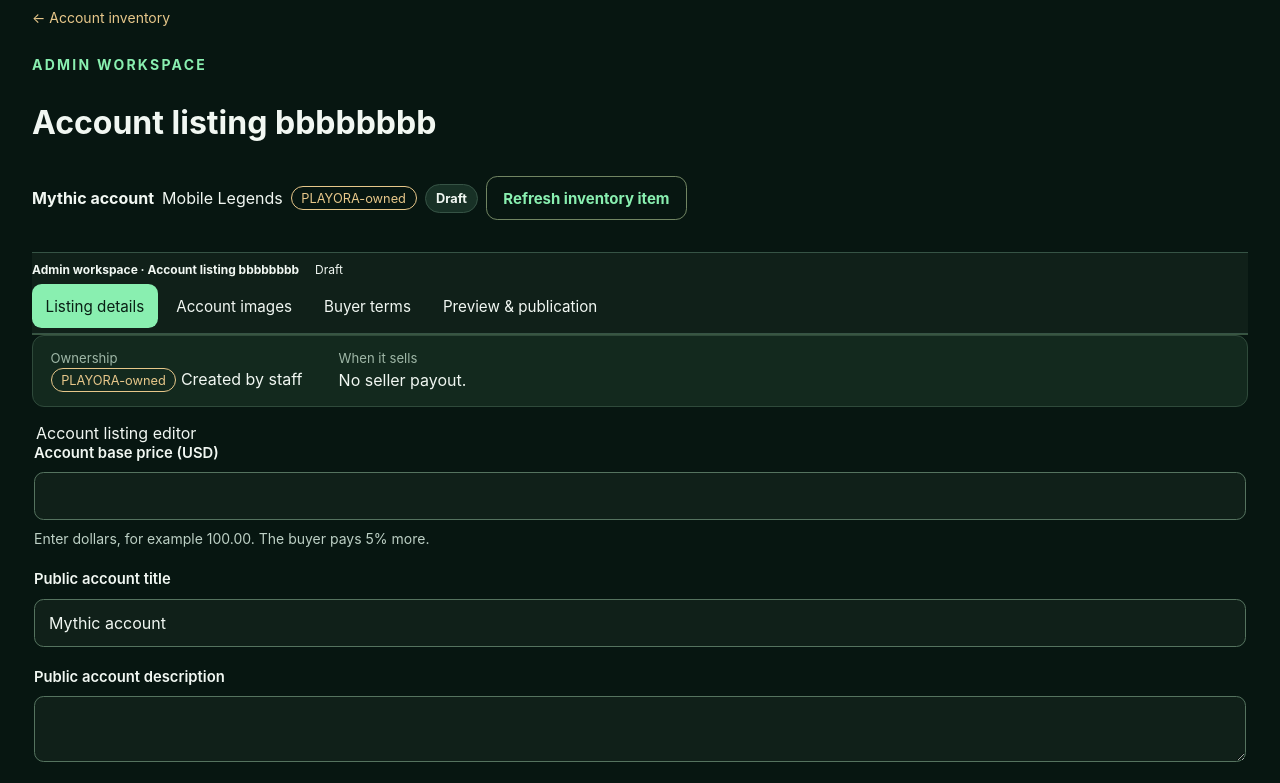
Test: edits a PLAYORA listing without seller agreement, selling progress or chat images
The width and height of the screenshot is (1280, 783).
Expected: the text "Created by staff" is shown, left=181, top=368, right=302, bottom=388
Expected: the text "No seller payout." is shown, left=339, top=370, right=466, bottom=390
Click the link "Account images" at coordinates (234, 306), box left=176, top=297, right=292, bottom=316
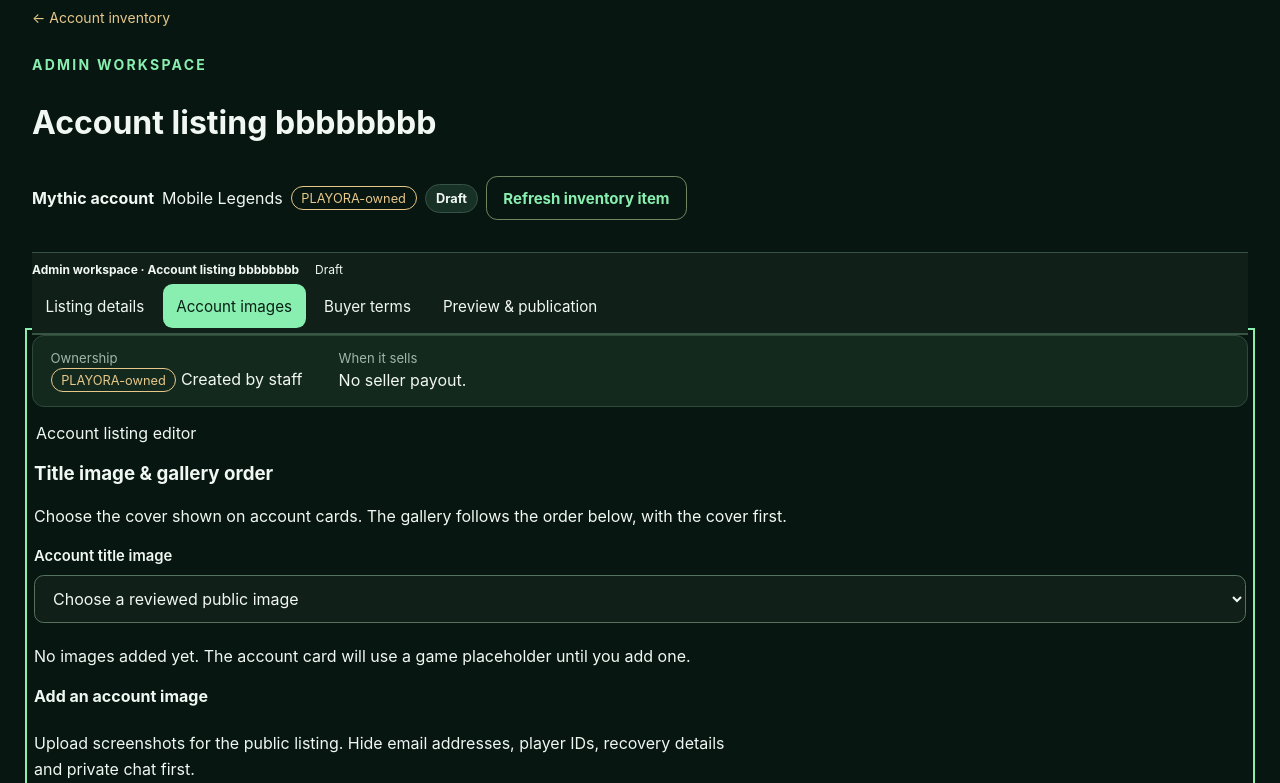
Result: the text "Add an account image" is shown at left=34, top=686, right=208, bottom=706
Click the link "Preview & publication" at coordinates (520, 306), box left=443, top=297, right=597, bottom=316
(page scrolled)
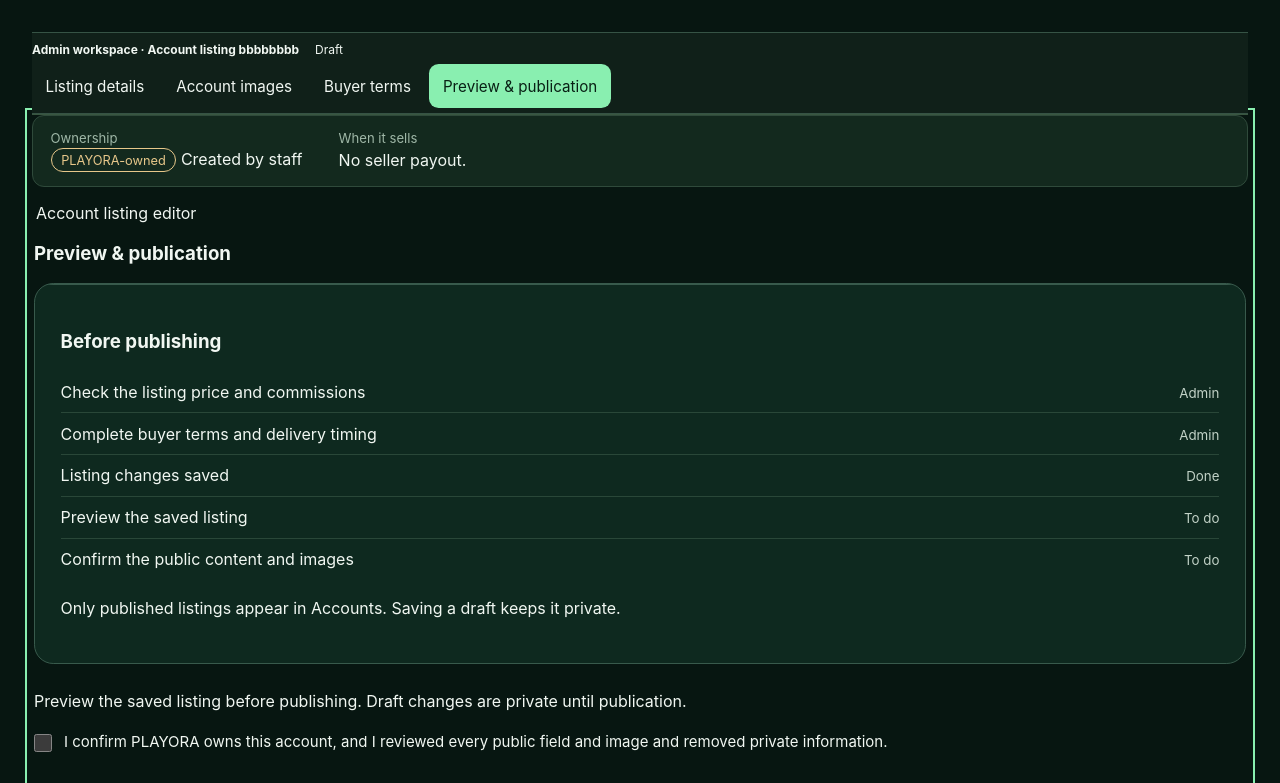
Result: the link "Check the listing price and commissions" is shown at left=61, top=382, right=366, bottom=402
Result: the checkbox labelled "I confirm PLAYORA owns this account" is shown at left=34, top=734, right=52, bottom=752
